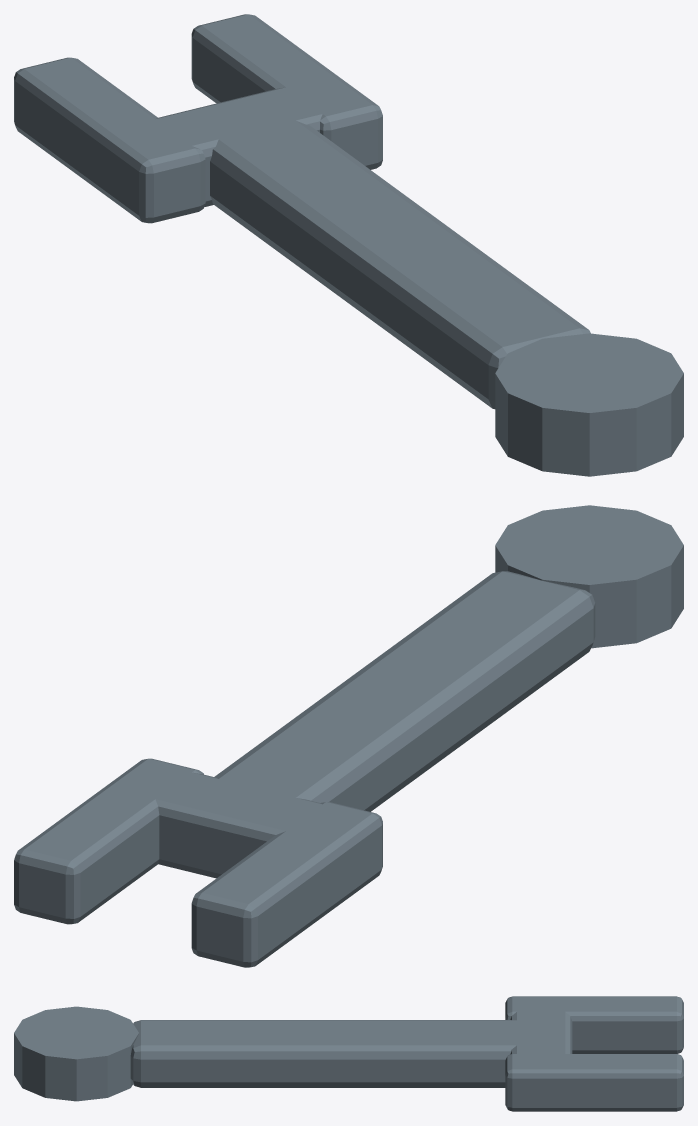
The model's file is Wrench.fbx.
3 views of the same model, one above another, from view 1: azimuth 30°, elevation 25°; view 2: azimuth 150°, elevation 25°; view 3: azimuth 270°, elevation 25° (orthographic). The views are drawn at different scales.
Parts seen in each view (by area): view 1: Handle, Ring, JawLeft, JawRight, JawBase; view 2: Handle, JawLeft, Ring, JawRight, JawBase; view 3: Handle, JawRight, Ring, JawLeft, JawBase.
Boxes of the visible parts, x1,y1,x2,y2 form: Handle: [210, 120, 590, 409]; Ring: [495, 333, 683, 476]; JawLeft: [14, 57, 205, 223]; JawRight: [191, 14, 382, 169]; JawBase: [155, 84, 329, 206]; Handle: [214, 571, 595, 811]; JawLeft: [191, 802, 382, 967]; Ring: [495, 505, 683, 648]; JawRight: [14, 758, 203, 924]; JawBase: [145, 769, 334, 878]; Handle: [130, 1020, 516, 1087]; JawRight: [505, 1054, 683, 1111]; Ring: [14, 1006, 138, 1101]; JawLeft: [505, 996, 683, 1053]; JawBase: [510, 1011, 572, 1054].
Bounding box in the file's own units: 10.4 × 2.6 × 37.5.
